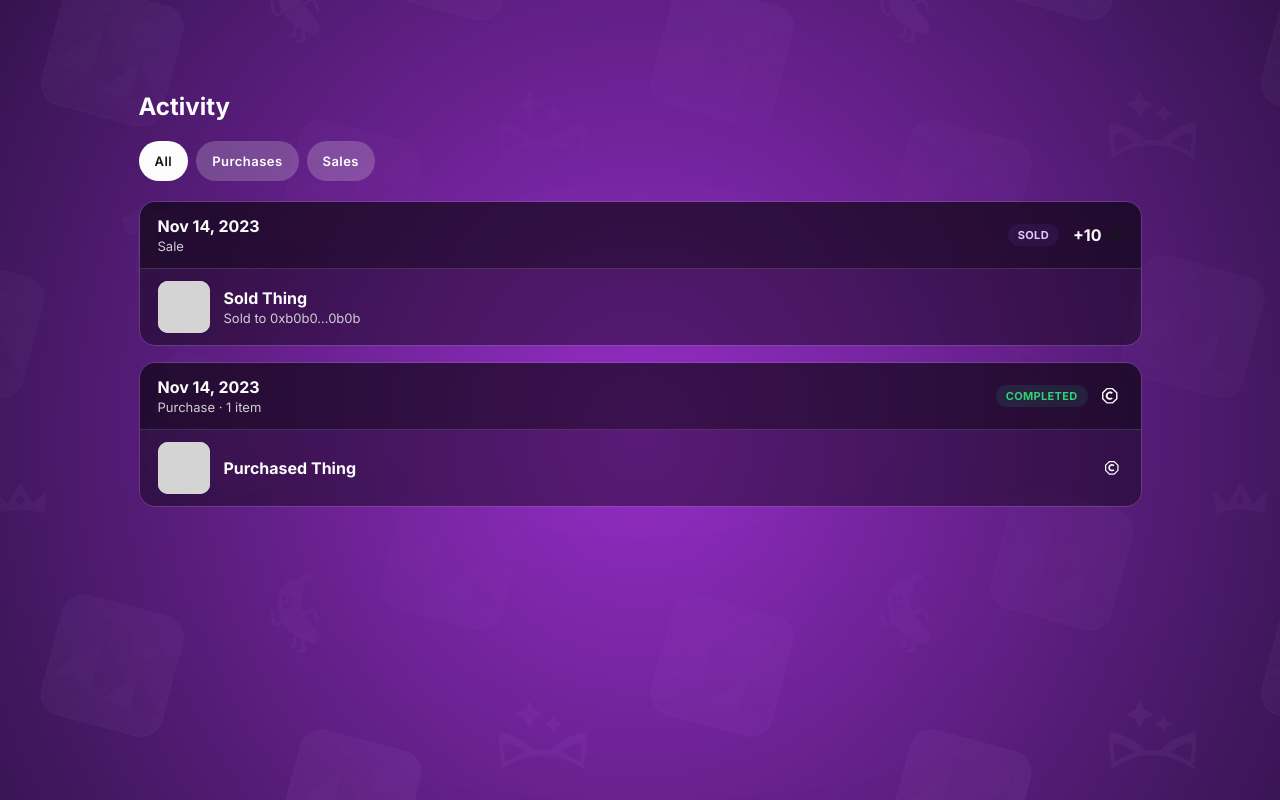
it: when purchases and a sale are interleaved › should hide purchases when the Sales filter is selected
Check: the text "Sold Thing" is shown, box [224,288,307,308]
Click the tab with test id "activity-filter-sales" at (341, 161), box [306,141,375,181]
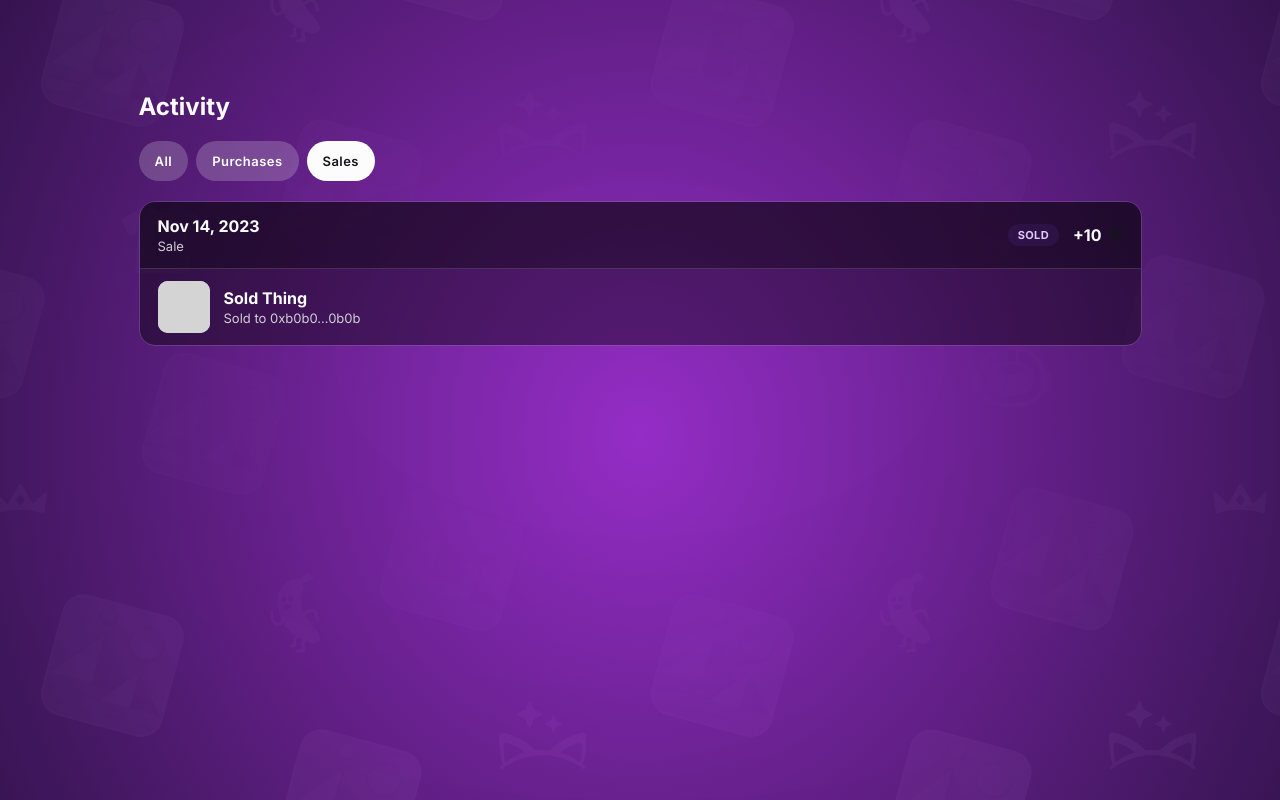
Check: the element with test id "activity-sale" is shown, box [138,201,1142,346]
Check: the element with test id "purchase-order" is gone
